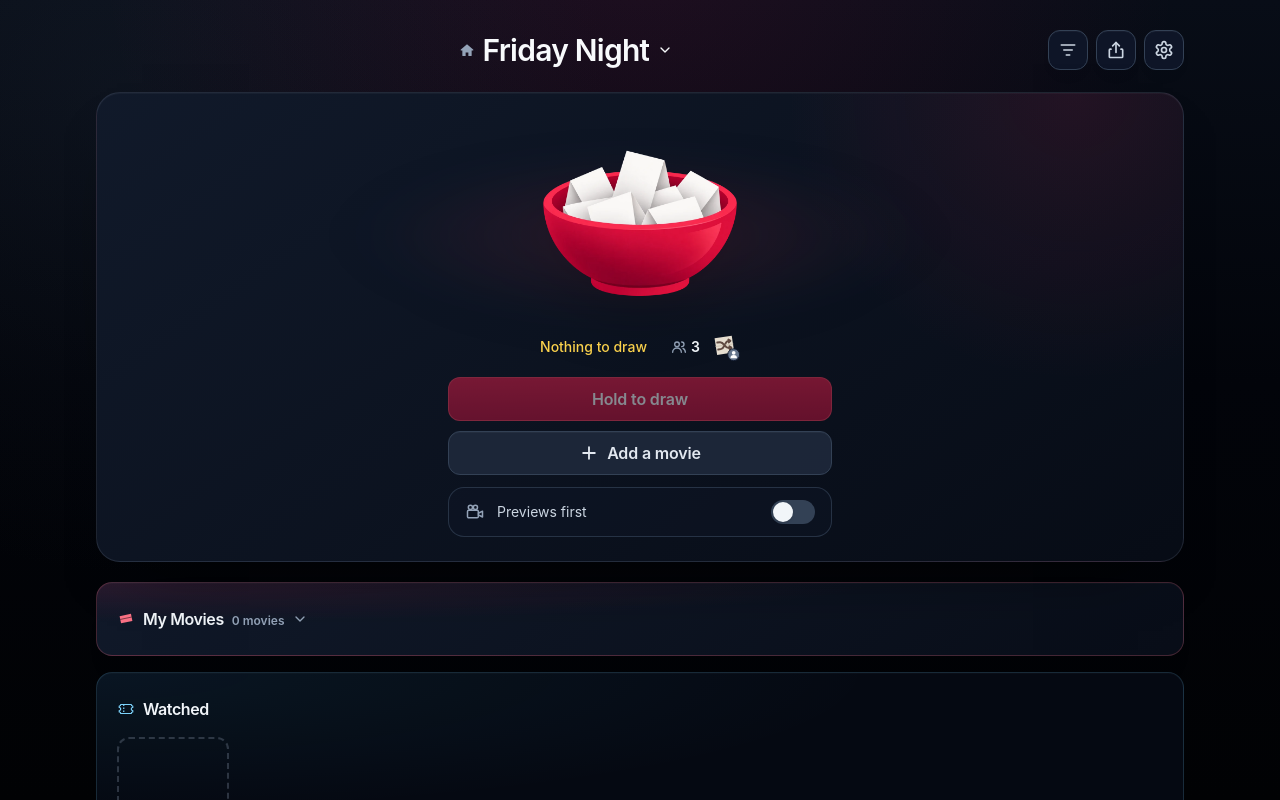
Test: BowlDashboard bowl picker › still opens the picker with only one bowl, to offer a new one
The image size is (1280, 800).
Click the button with aria-label "switch bowl".
click(566, 50)  # box [450,28,681,72]
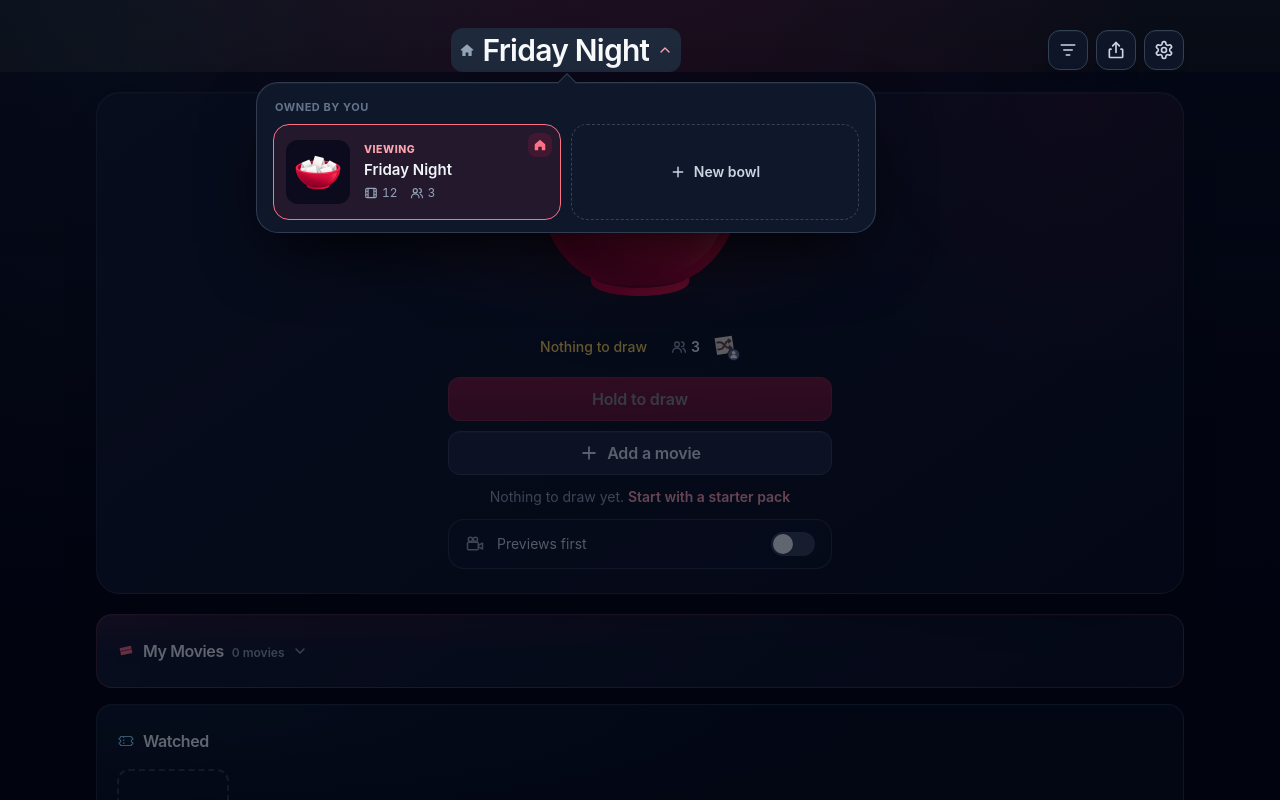
Check: the button with aria-label "Friday Night, current bowl" is shown, box [273,124,561,220]
Check: the button with aria-label "Create new bowl" is enabled, box [571,124,859,220]
